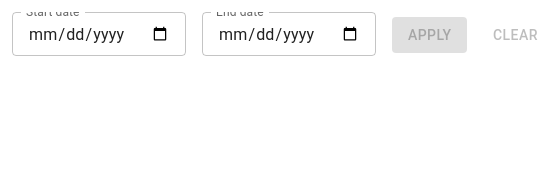
Test: DateRangeControls › shows cross error and disables Apply when only one date is provided
Type "2024-01-01" into the date field labelled "Start date".
click(99, 34); type("2024-01-01")  # box 12,12 -> 186,56
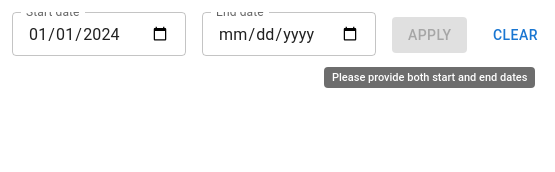
expect the button "Apply" is disabled: met, box 392,17 -> 467,53
expect the text "Please provide both start and end dates" is shown: met, box 324,67 -> 535,88
